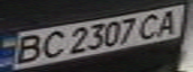0: (103, 18, 124, 47)
2: (66, 24, 90, 56)
3: (87, 20, 109, 51)
7: (118, 15, 142, 44)
A: (151, 7, 184, 37)
B: (6, 33, 48, 66)
C: (36, 28, 69, 61), (136, 11, 166, 39)
